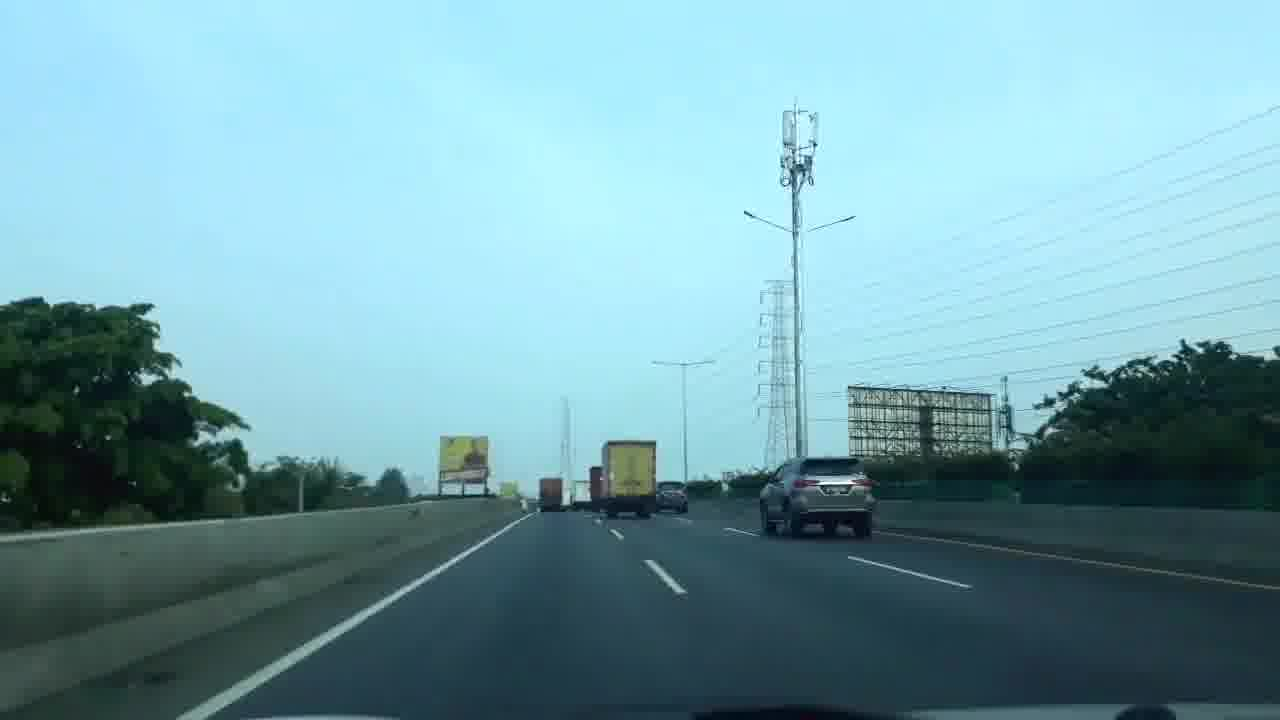plate_positive: (823, 485, 848, 493)
